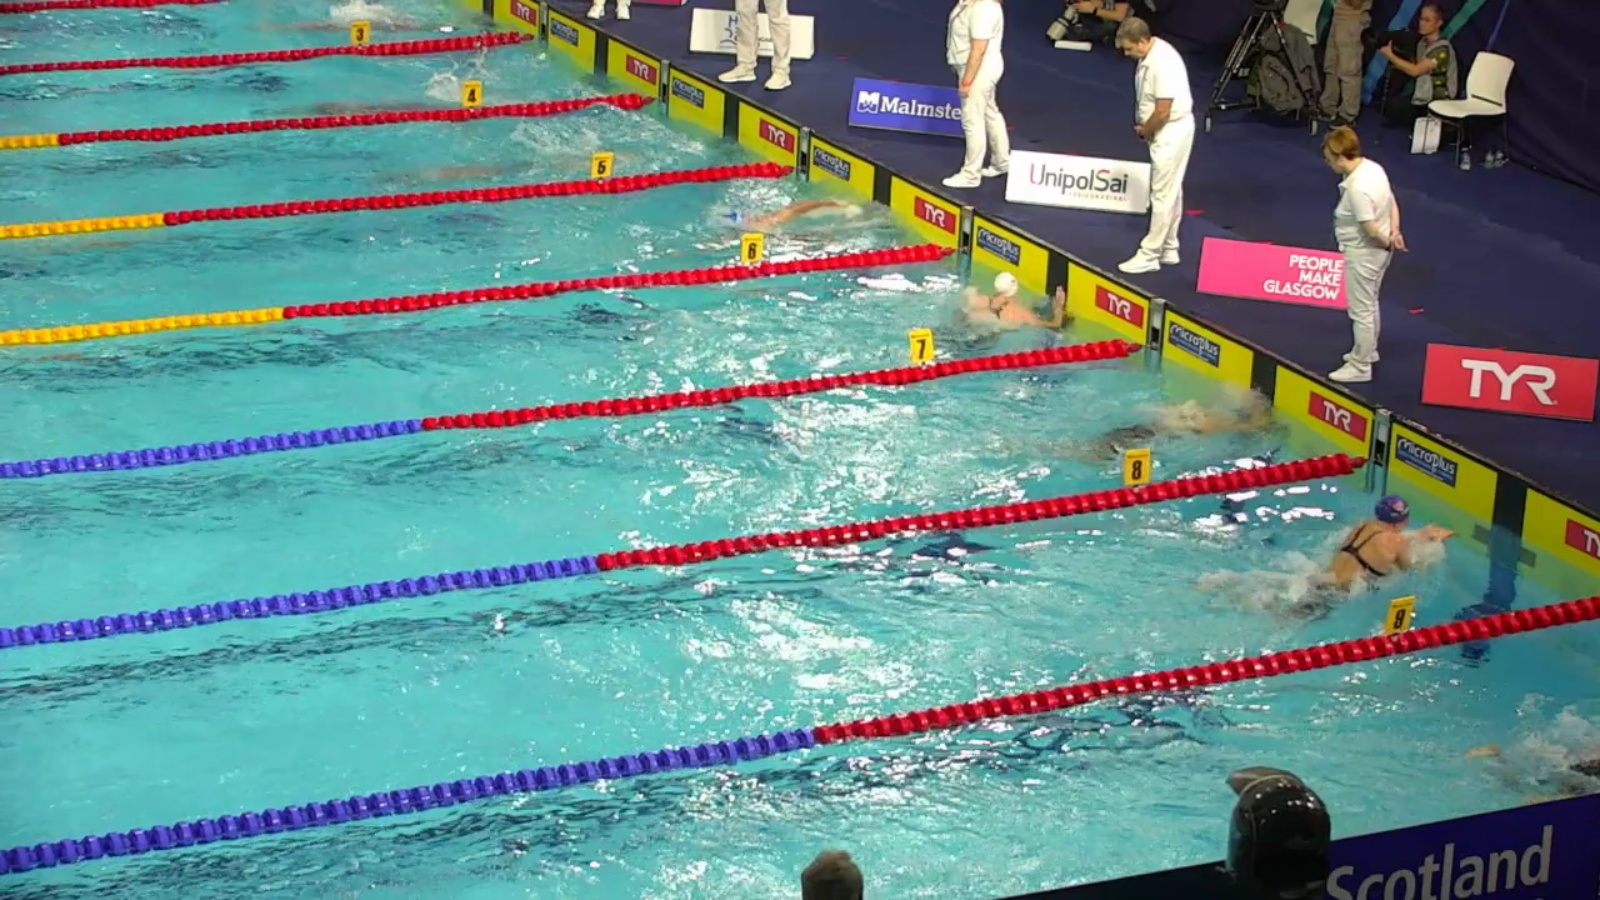swimmerw: (1227, 480, 1454, 627), (1062, 389, 1267, 469), (919, 262, 1055, 368), (1462, 709, 1600, 799), (366, 153, 610, 187), (718, 195, 855, 249), (242, 92, 447, 124), (242, 11, 451, 37)
